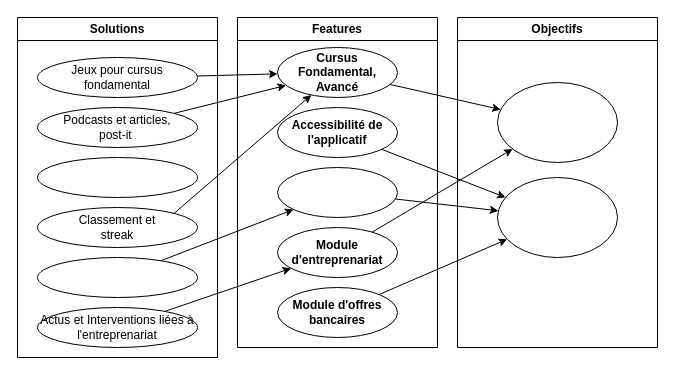
The diagram is 675 pixels wide and 375 high, and some of its shapes have lost their labels. The shapes that lost their labels are listed below. From the top down, each one's box as (x1, y1, x2, y2) in pixels, then its label:
(496, 82, 618, 162): Enseigner
(36, 156, 198, 198): Interventions et Atelier par Banque Client
(276, 166, 398, 218): Onboarding
(496, 176, 618, 258): Accompagner pour Fidéliser
(36, 256, 198, 298): Partenariats scolaires
